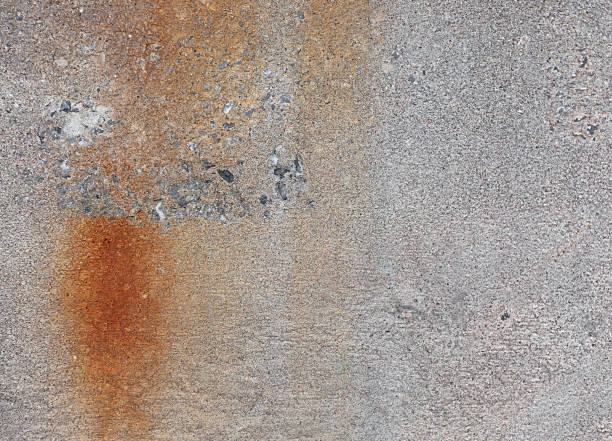Corrosion: (50, 217, 260, 441), (288, 1, 376, 441), (64, 1, 263, 180)
